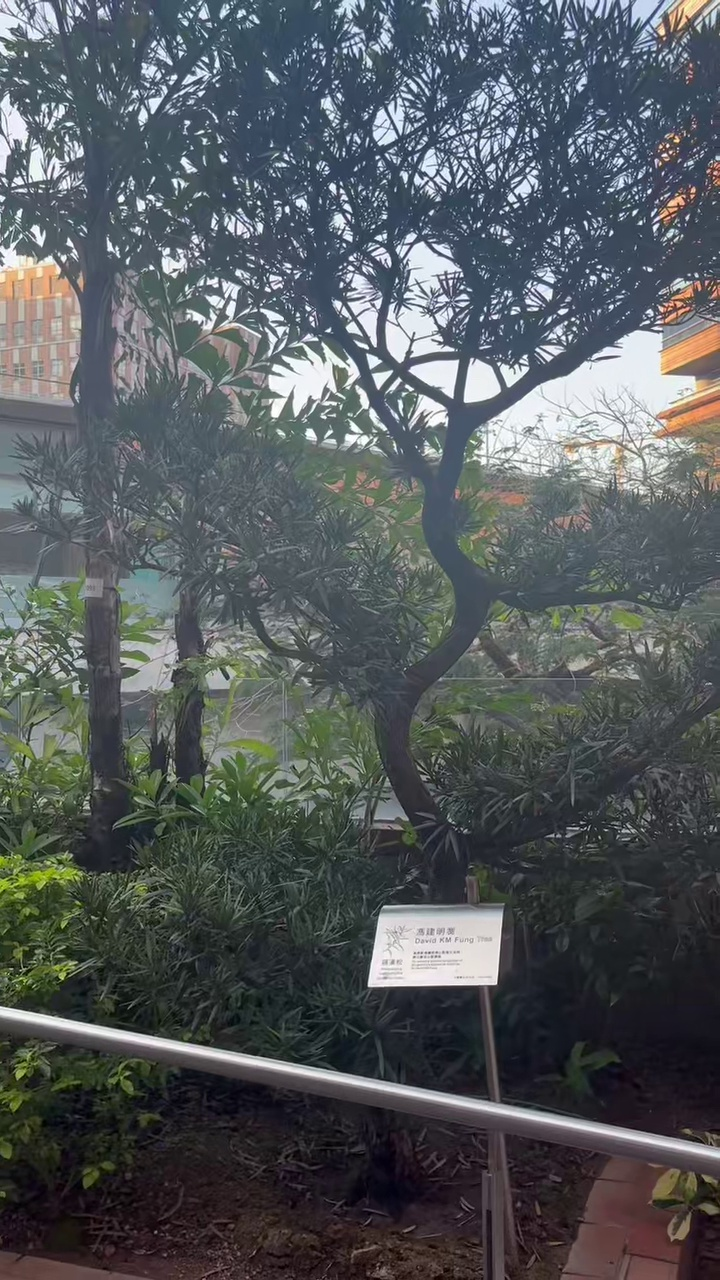Podocarpus macrophyllus: (146, 0, 719, 890)
